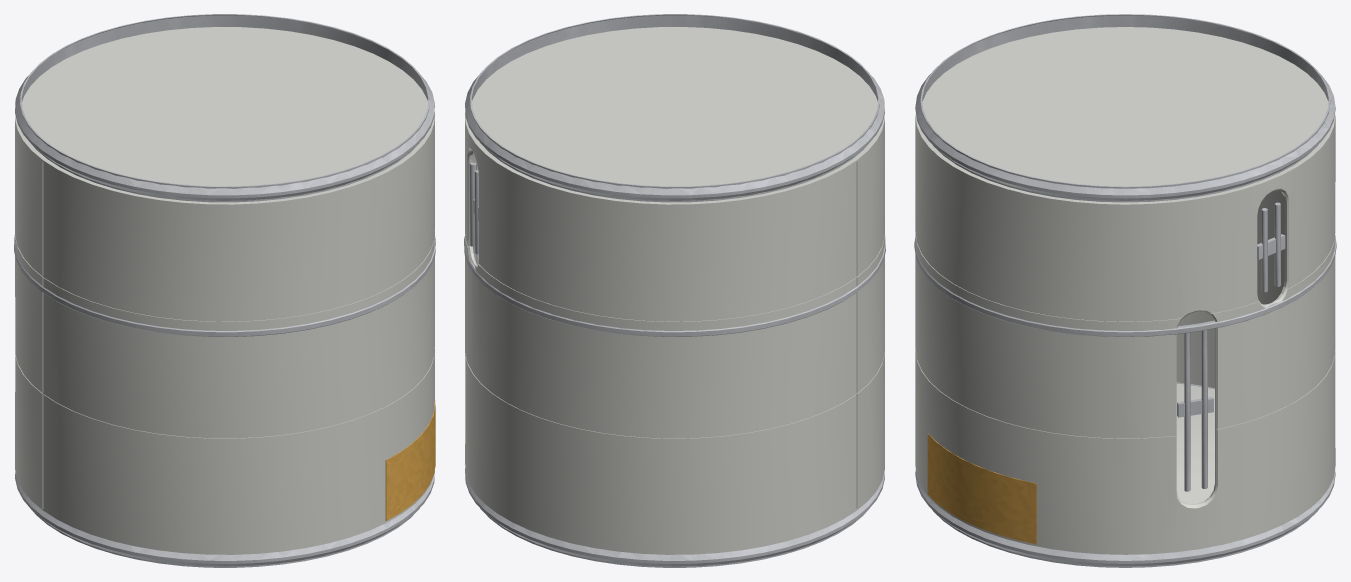
The model's file is ax_tank_03_heavy_methalox_xl_short.glb.
3 renders of one model, left to right at view 1: azimuth 30°, elevation 25°; view 2: azimuth 150°, elevation 25°; view 3: azimuth 270°, elevation 25°, orthographic.
Parts seen in each view (by area): view 1: tank_barrel, dome_caps, end_rings, mli_patch, common_bulkhead_ring; view 2: tank_barrel, dome_caps, end_rings, common_bulkhead_ring, raceway_lines; view 3: tank_barrel, dome_caps, end_rings, mli_patch, raceway_lines, common_bulkhead_ring.
Part boxes in pixels (x1,y1,x2,y2): tank_barrel: (15, 112, 434, 554); dome_caps: (22, 27, 427, 201); end_rings: (15, 14, 434, 567); mli_patch: (385, 400, 435, 520); common_bulkhead_ring: (14, 235, 435, 336); tank_barrel: (465, 112, 884, 554); dome_caps: (472, 27, 877, 201); end_rings: (465, 14, 884, 567); common_bulkhead_ring: (464, 235, 885, 336); raceway_lines: (469, 162, 478, 263); tank_barrel: (915, 113, 1335, 554); dome_caps: (922, 27, 1328, 503); end_rings: (915, 14, 1335, 567); mli_patch: (927, 433, 1036, 544); raceway_lines: (1177, 202, 1285, 491); common_bulkhead_ring: (914, 236, 1336, 336).
Size of the model in its own units: 5.02 by 5 by 5.02.
3 materials, 2 textured.
